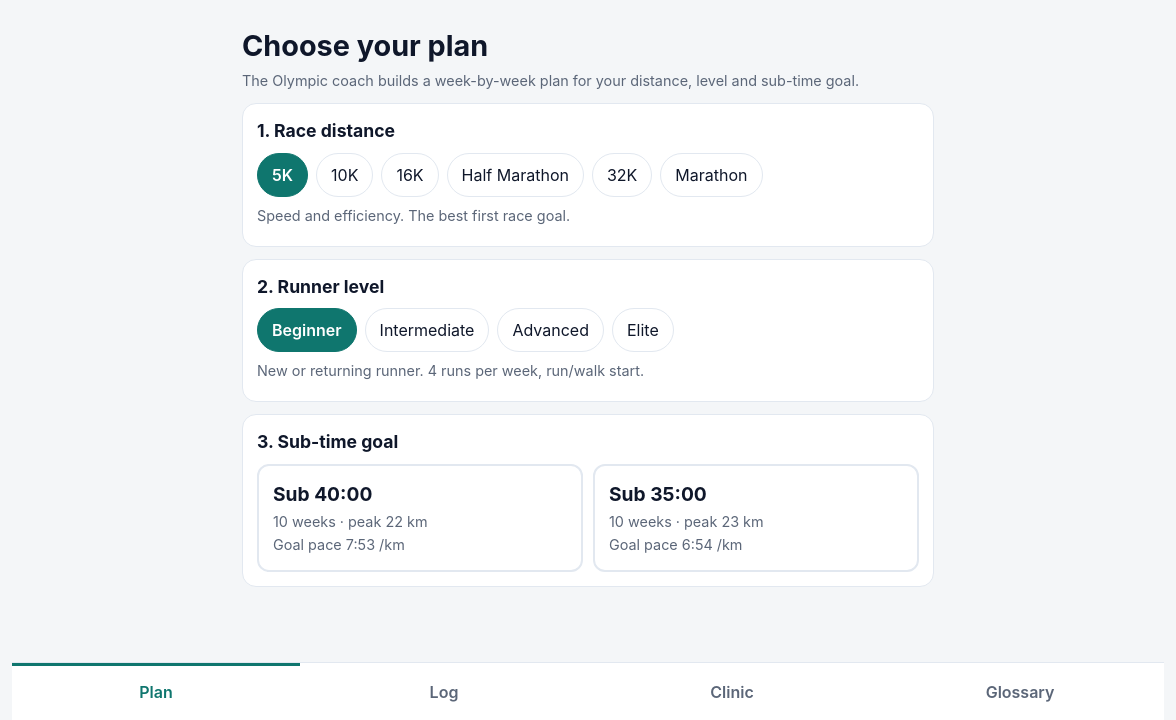
Test case: app flow › Next day on week 1 day 7 moves to week 2 day 1 and can be marked done
The width and height of the screenshot is (1176, 720).
Click the radio button labelled "5K" at (282, 175), box left=257, top=153, right=308, bottom=197
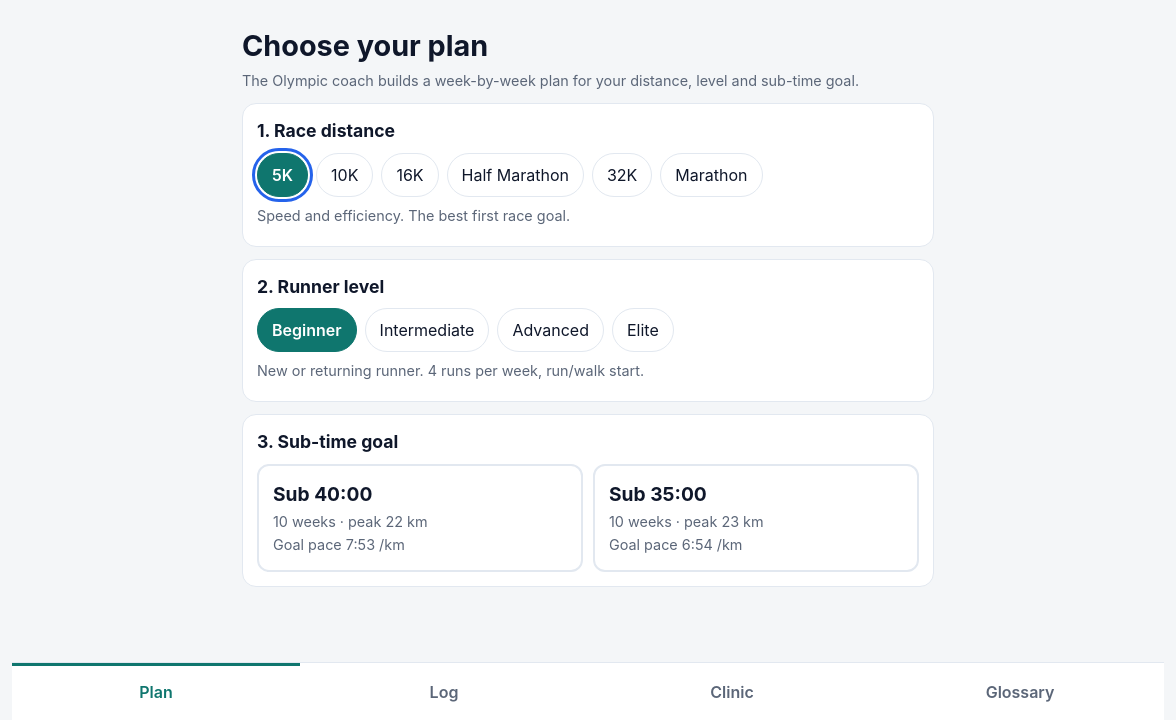
Click the radio button labelled "Beginner" at (307, 330), box left=257, top=308, right=357, bottom=352
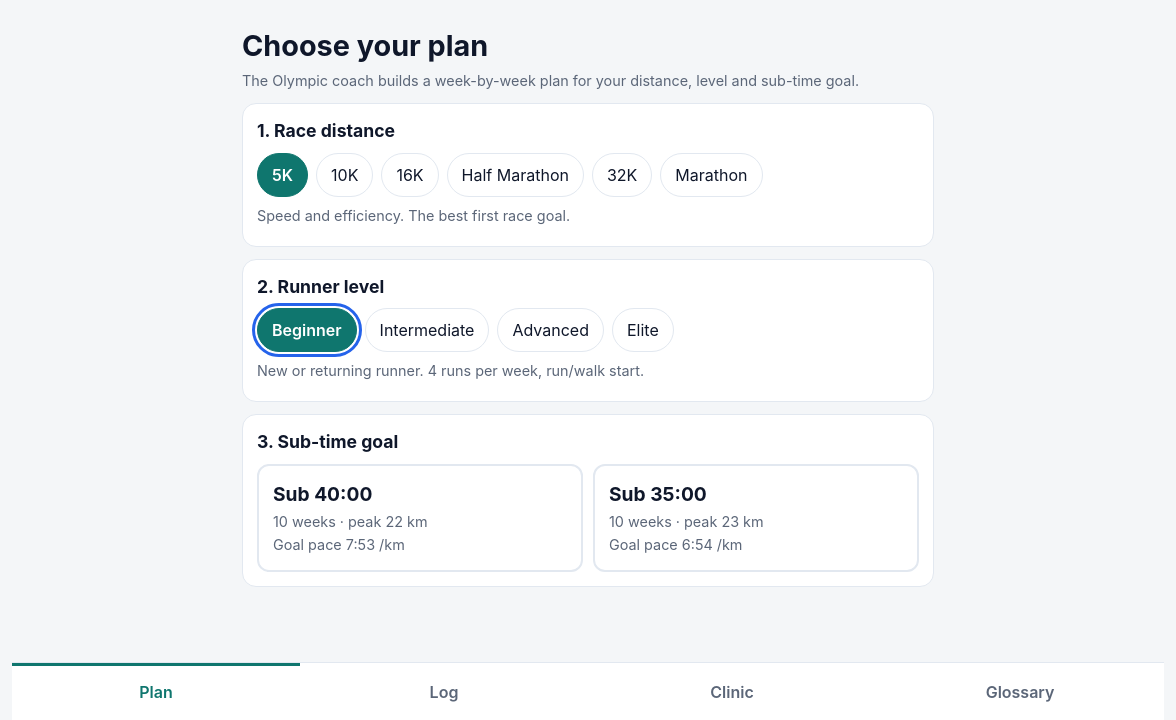
Click the button "Sub 40:00 10 weeks · peak 22 km Goal pace 7:53 /km" at (420, 518), box left=257, top=464, right=583, bottom=572
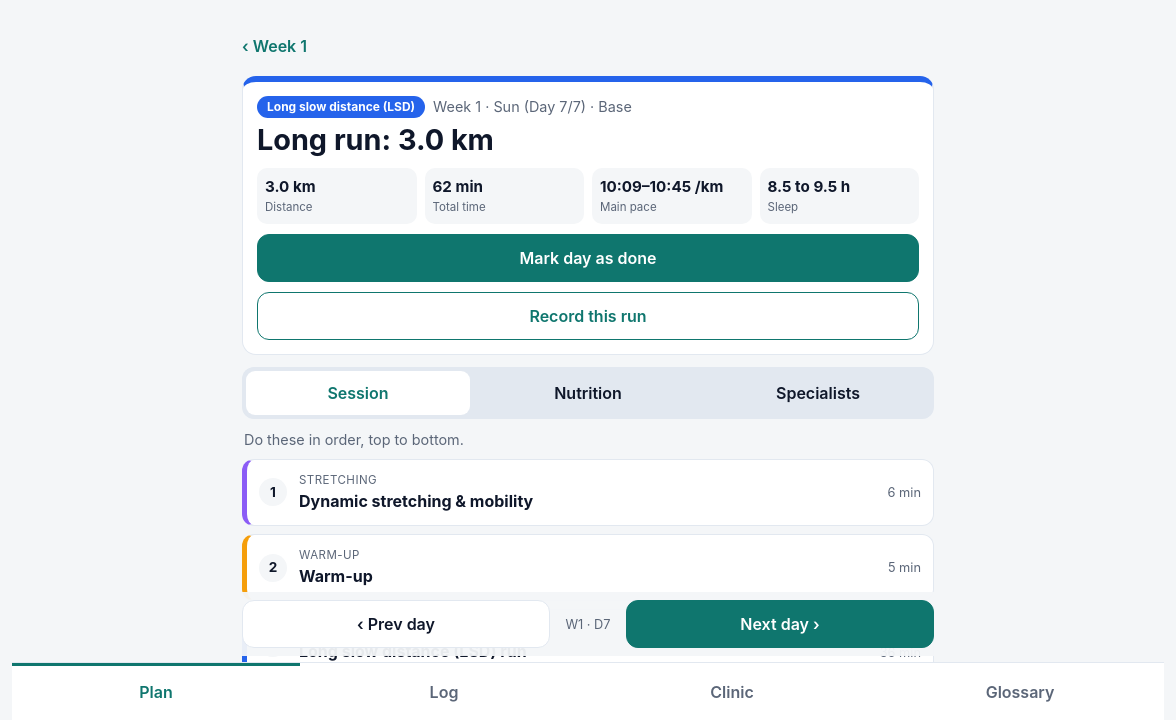
Now the text "W1 · D7" is shown, box left=565, top=616, right=611, bottom=631
Click the button "Next day ›" at (780, 624), box left=626, top=600, right=934, bottom=648
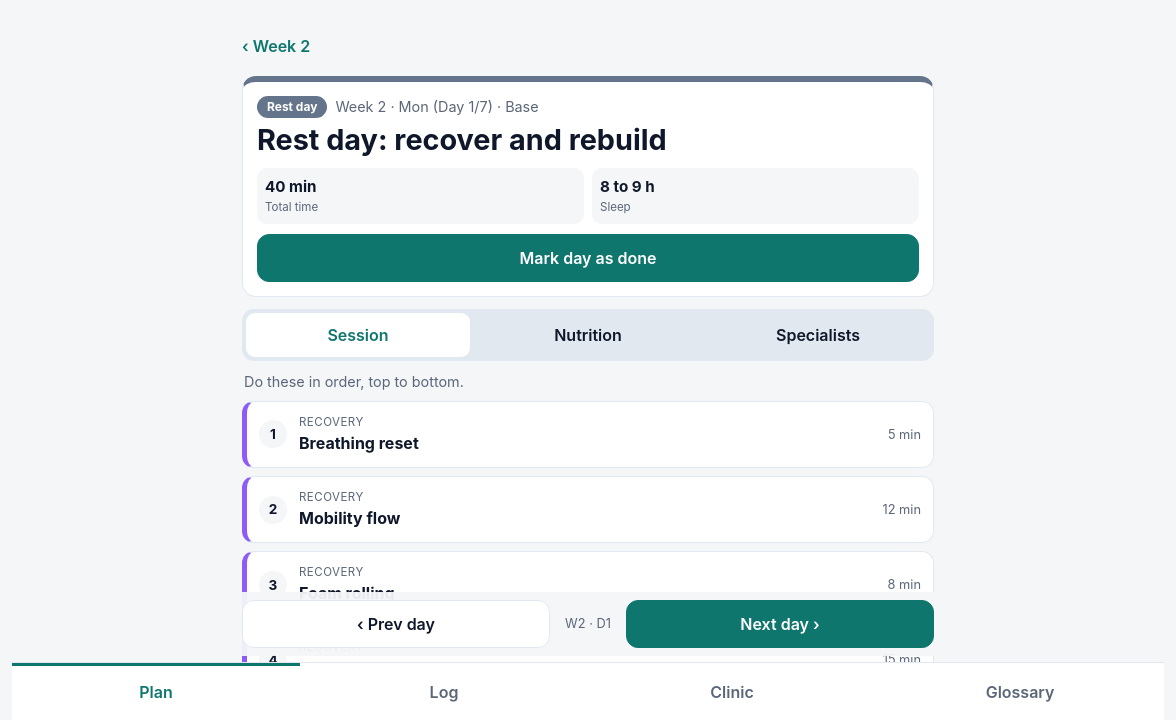
Now the button "‹ Prev day" is enabled
Now the text "W2 · D1" is shown, box left=565, top=616, right=611, bottom=631
Click the button "‹ Prev day" at (396, 624), box left=242, top=600, right=550, bottom=648
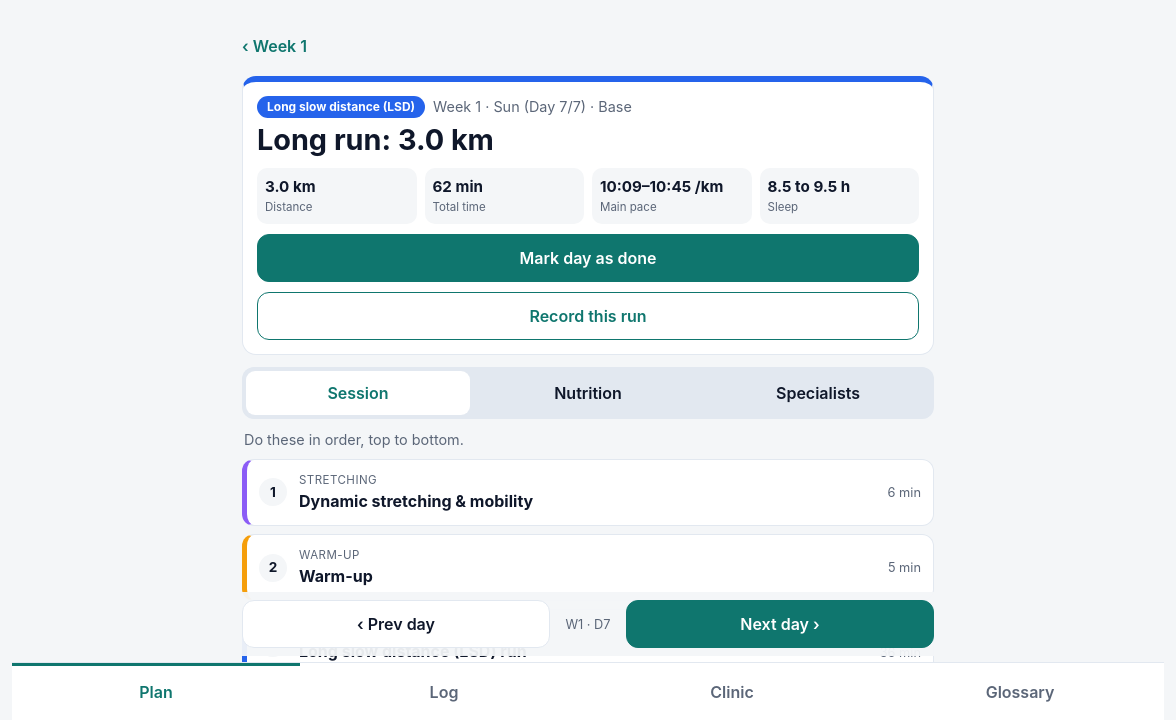
Now the text "W1 · D7" is shown, box left=565, top=616, right=611, bottom=631
Click the button "Mark day as done" at (588, 258), box left=257, top=234, right=919, bottom=282
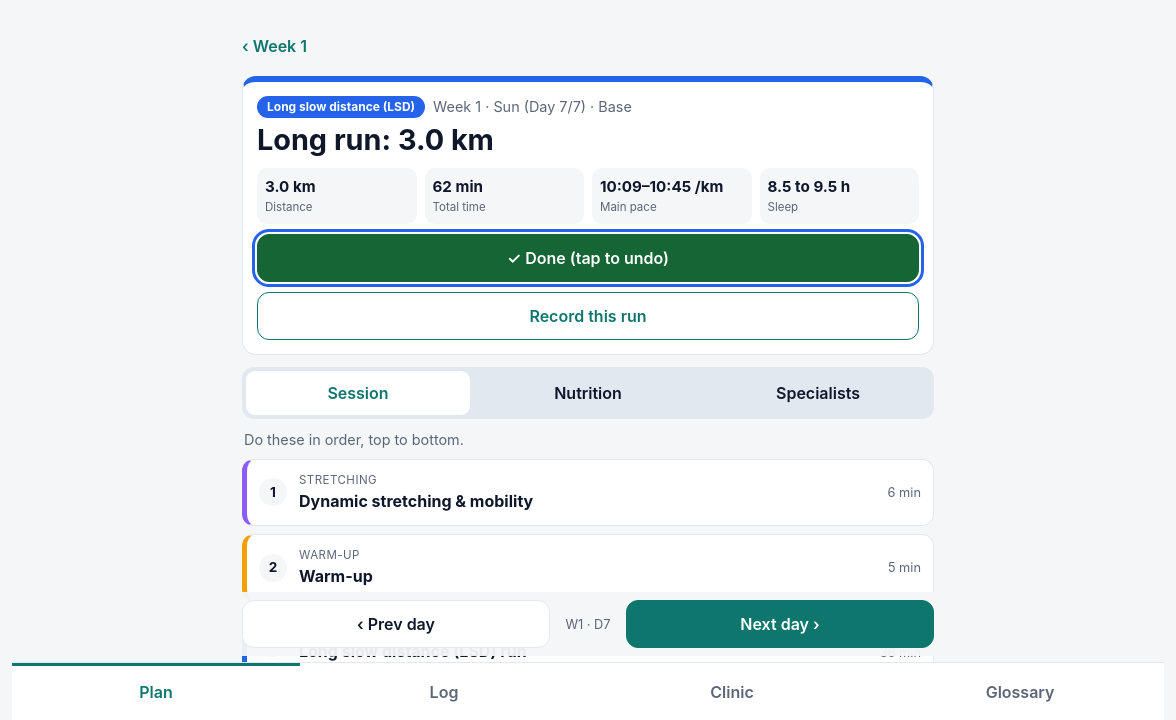
Now the button "✓ Done (tap to undo)" is shown, box left=257, top=234, right=919, bottom=282
